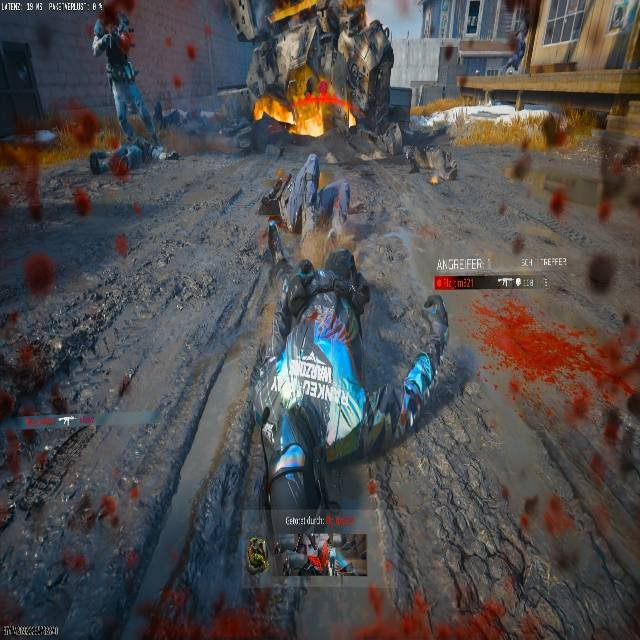head: (324, 249, 355, 279), (88, 149, 111, 174)
player: (273, 248, 371, 390), (90, 0, 161, 149)
